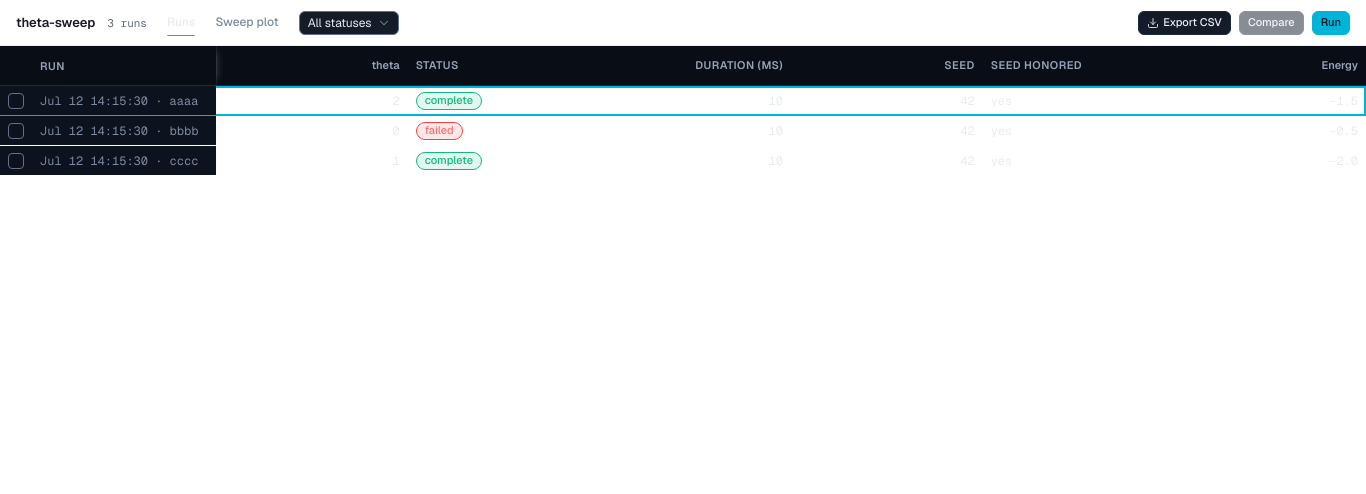
RunsTable › switches to the sweep plot tab when the experiment has swept parameters
Click the tab "Sweep plot" at (247, 22), box x1=207 y1=8 x2=287 y2=36
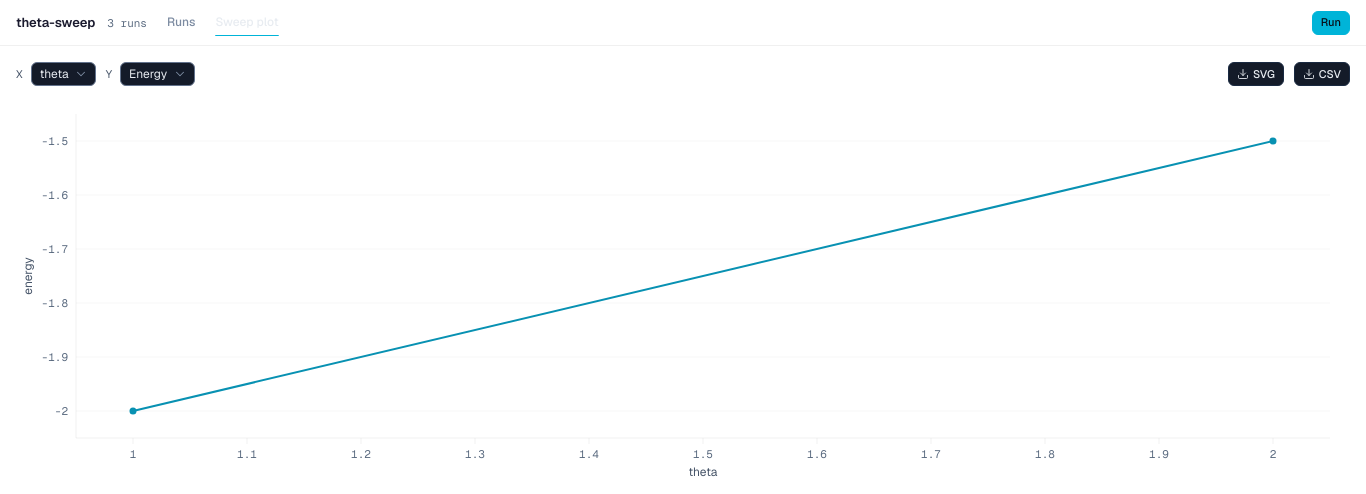
Expected: the dropdown named "X parameter" is shown, x1=31 y1=62 x2=96 y2=86
